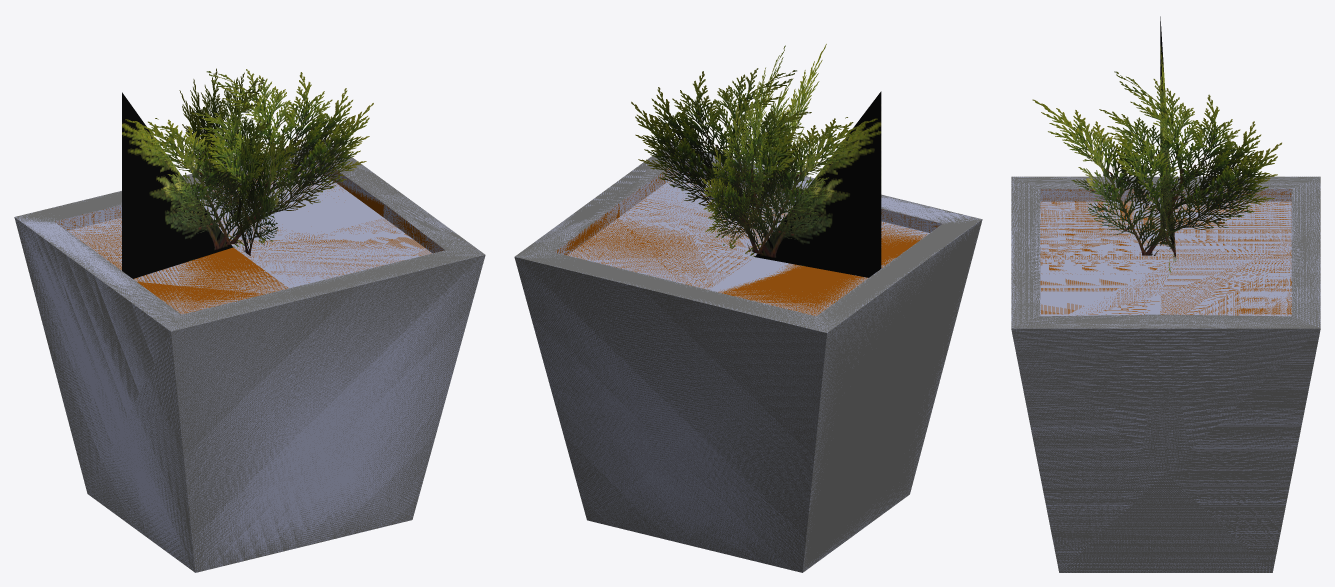
The model's file is Plant.fbx.
3 renders of one model, left to right at view 1: azimuth 30°, elevation 25°; view 2: azimuth 150°, elevation 25°; view 3: azimuth 270°, elevation 25°, orthographic.
Visible parts, largest first — view 1: Model, Group1; view 2: Model, Group1; view 3: Model, Group1.
Boxes of the visible parts, x1=… form: Model: x1=14, y1=142, x2=485, y2=572; Group1: x1=122, y1=68, x2=373, y2=278; Model: x1=514, y1=143, x2=982, y2=572; Group1: x1=631, y1=44, x2=881, y2=277; Model: x1=1011, y1=176, x2=1320, y2=572; Group1: x1=1032, y1=16, x2=1281, y2=276.
Bounding box in the file's own units: 2.62 × 3.58 × 2.26.
